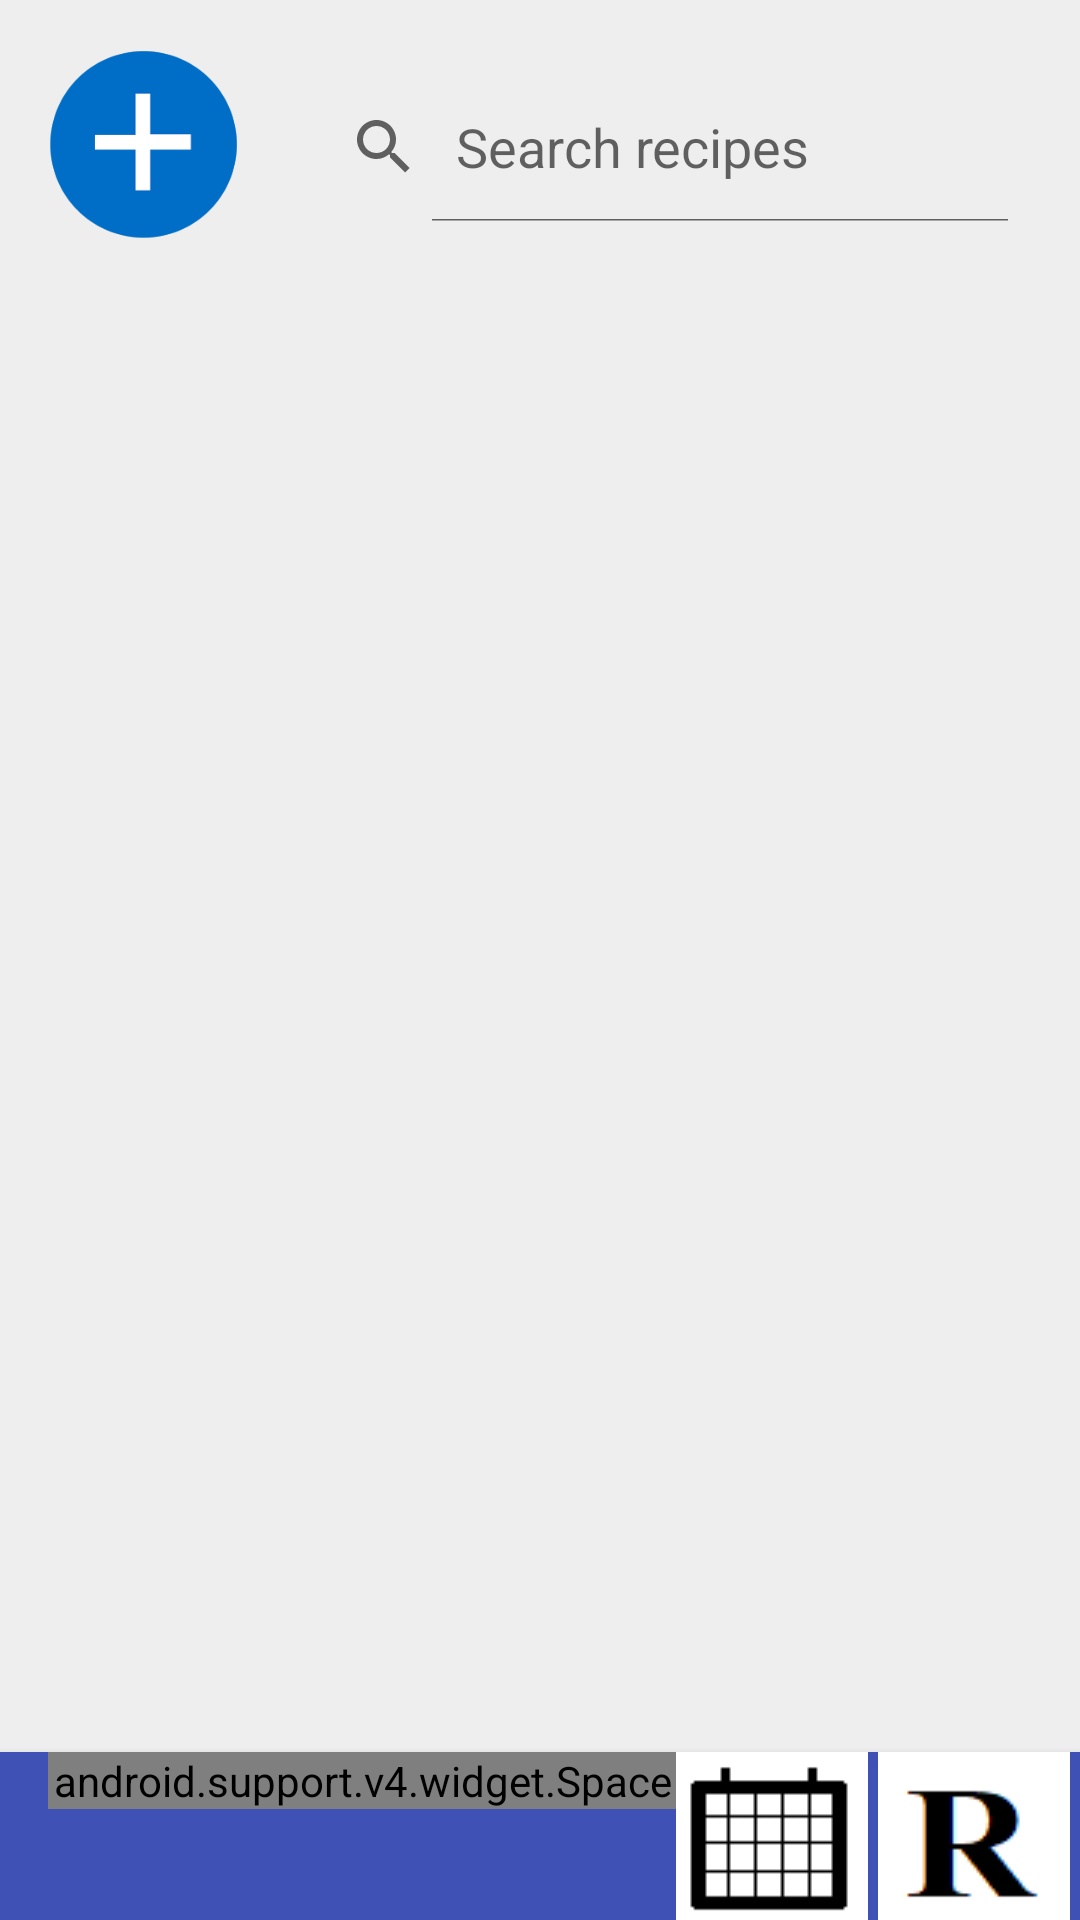

Screen size 1080w x 1920h. Icon name, then its box in pixels as (x1=x1, y1=y1, x2=x2, y2=y2):
Add Button: (x1=50, y1=51, x2=237, y2=238)
